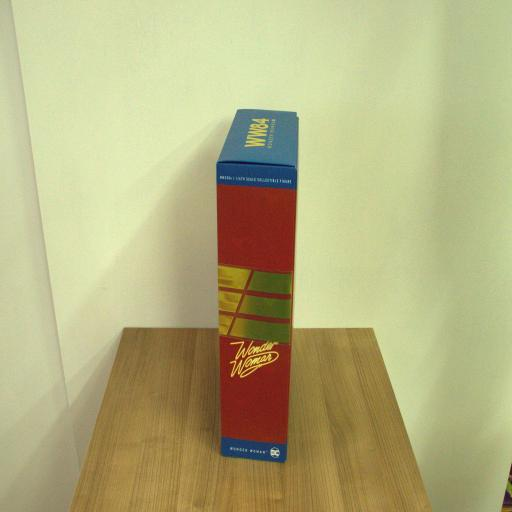WonderWoman: (216, 108, 299, 464)
